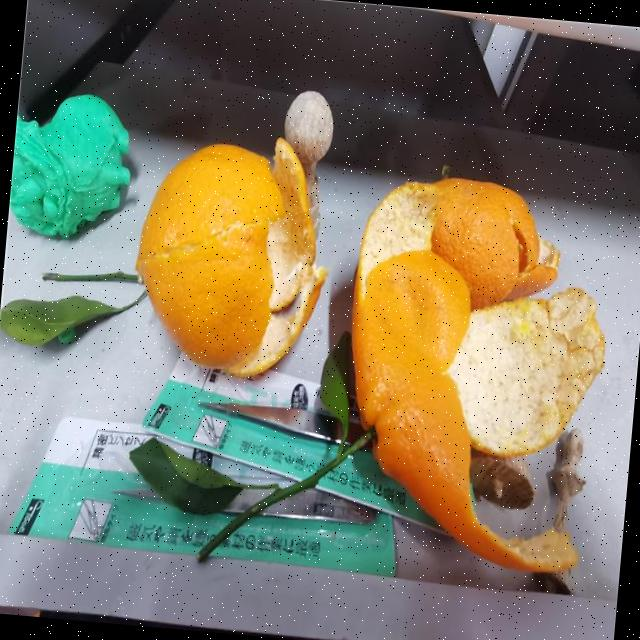orange-peel: (328, 166, 614, 577), (126, 126, 334, 383)
